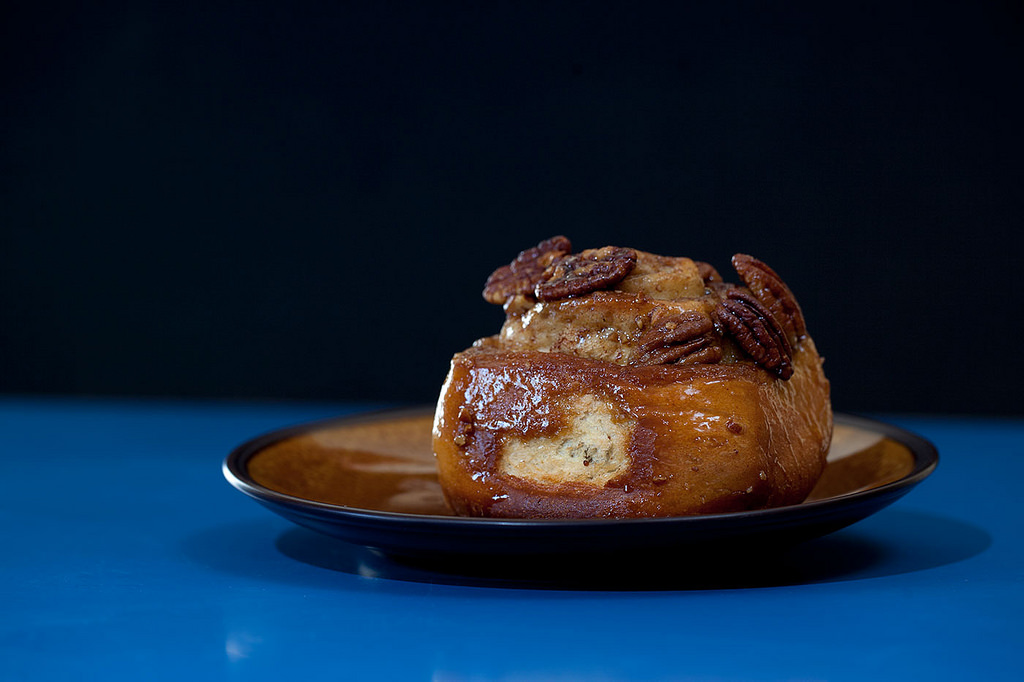slice of bread: (443, 360, 822, 496)
